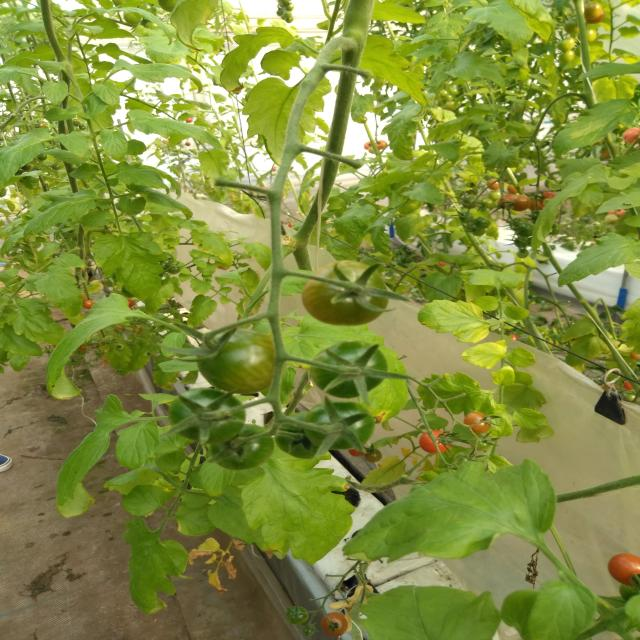c-half-riped: (301, 260, 389, 326), (608, 553, 639, 587), (321, 611, 348, 636), (463, 412, 492, 434), (364, 448, 382, 462)
c-riped: (419, 430, 452, 453), (348, 445, 366, 456)
c-unriped: (197, 328, 286, 396), (310, 340, 387, 398), (168, 388, 246, 444), (303, 400, 375, 450), (210, 423, 274, 471), (275, 411, 328, 459), (286, 606, 308, 624), (469, 434, 492, 451), (453, 452, 477, 466), (302, 624, 316, 636)
